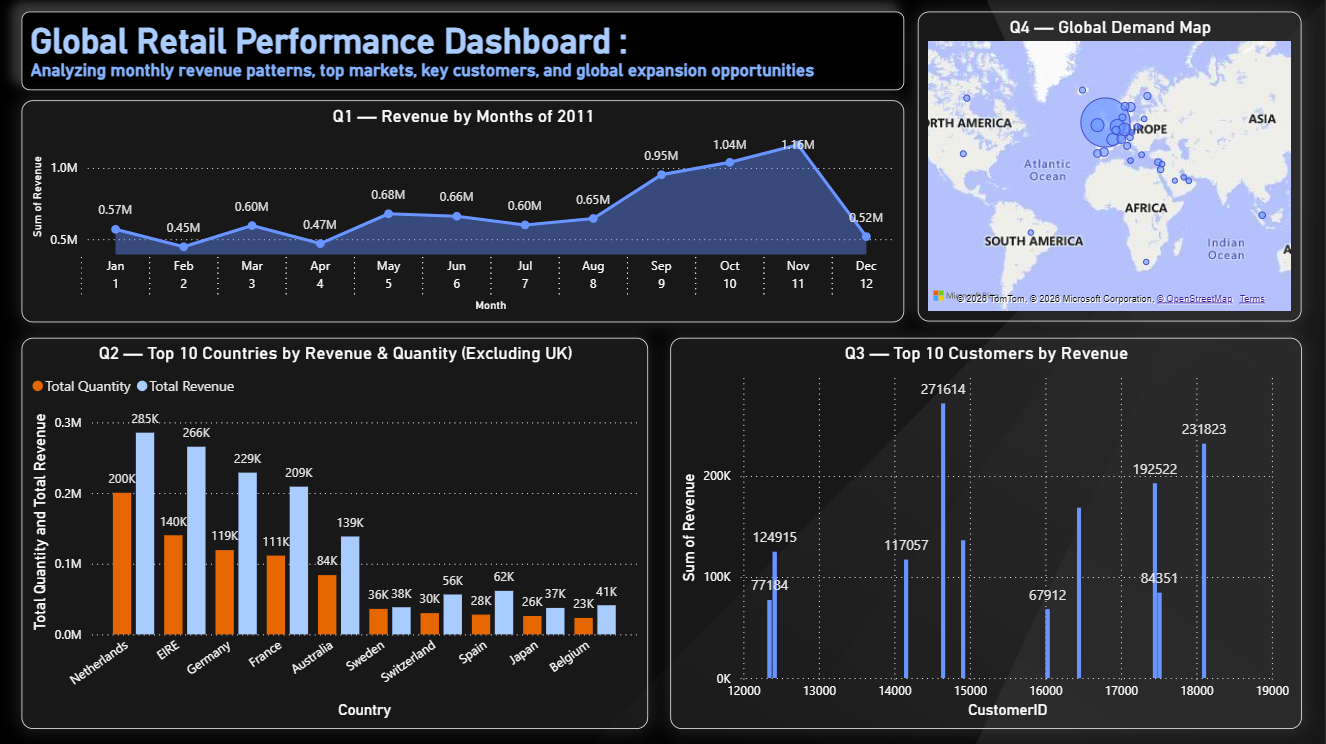

The page's visual inventory and layout, read from the dashboard file:
{"tool":"powerbi","page":{"name":"Page 1","canvas":[1280,720],"ordinal":0},"visuals":[{"type":"areaChart","title":"Q1 — Revenue by Months of 2011","fields":{"Category":["Online Retail.Month Number1","Online Retail.Month Name1"],"Y":["Sum(Online Retail.Revenue)"]},"box":[22,97.4,852.1,214.1],"z":0},{"type":"clusteredColumnChart","title":"Q2 — Top 10 Countries by Revenue & Quantity (Excluding UK)","fields":{"Category":["Online Retail.Country"],"Y":["Online Retail.Total Quantity","Online Retail.Total Revenue"]},"box":[21.7,326.9,604.4,377.6],"z":1000},{"type":"clusteredColumnChart","title":"Q3 — Top 10 Customers by Revenue ","fields":{"Category":["Online Retail.CustomerID"],"Y":["Sum(Online Retail.Revenue)"]},"box":[647.9,326.9,609.3,377.6],"z":2000},{"type":"map","title":"Q4 — Global Demand Map ","fields":{"Category":["Online Retail.Country"],"Size":["Sum(Online Retail.Quantity)"]},"box":[886.7,12.1,370.4,299.2],"z":3000},{"type":"textbox","box":[21.7,12.1,851.7,76],"z":4000}]}

Visuals, with their boxes in screenshot pixels (x1, y1, x2, y2), scaled from the page's 1280x720 canvas onto the 1326x744 screenshot:
"Q1 — Revenue by Months of 2011" areaChart: [23,101,906,322]
"Q2 — Top 10 Countries by Revenue & Quantity (Excluding UK)" clusteredColumnChart: [22,338,649,728]
"Q3 — Top 10 Customers by Revenue " clusteredColumnChart: [671,338,1302,728]
"Q4 — Global Demand Map " map: [919,13,1302,322]
textbox: [22,13,905,91]
